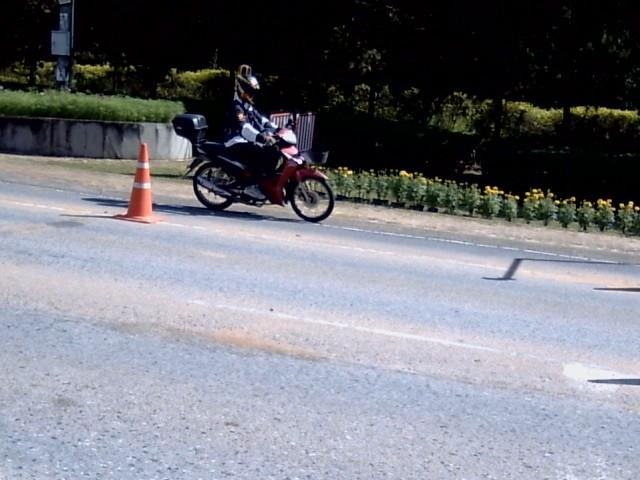helmet: (234, 75, 259, 102)
motor: (173, 114, 334, 221)
person: (225, 65, 277, 174)
